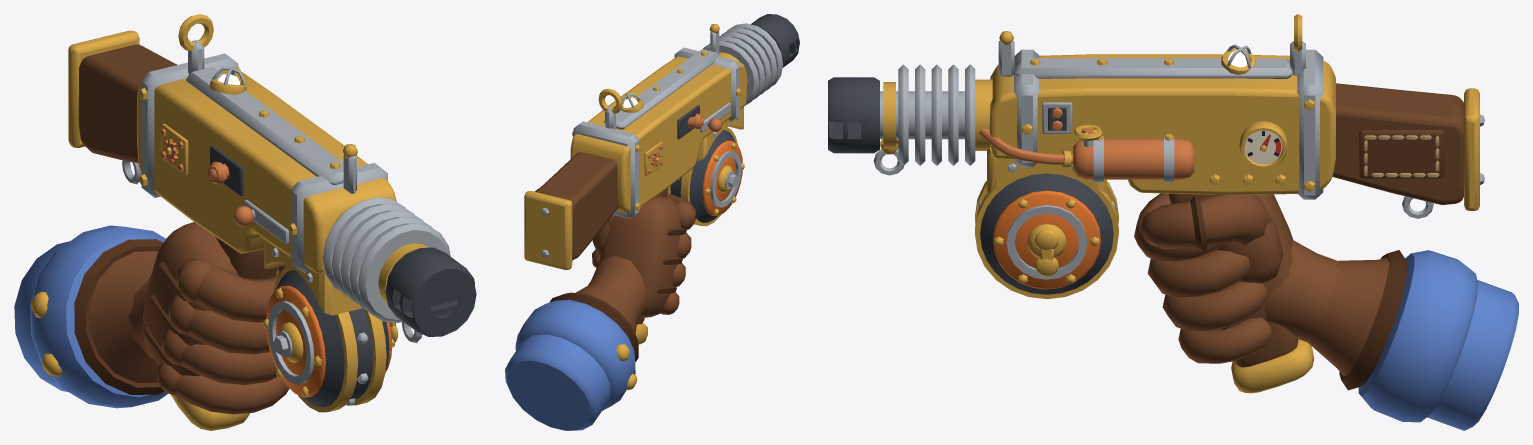
The model's file is vm_rivet_repeater.glb.
3 renders of one model, left to right at view 1: azimuth 30°, elevation 25°; view 2: azimuth 150°, elevation 25°; view 3: azimuth 270°, elevation 25°, orthographic. The views are drawn at different scales.
Visible parts, largest first — view 1: RivetRepeater, Glove, Drum; view 2: RivetRepeater, Glove, Drum; view 3: RivetRepeater, Glove, Drum.
Part boxes in pixels (<box>): RivetRepeater: <box>68,14,476,430</box>; Glove: <box>14,222,289,414</box>; Drum: <box>263,266,398,412</box>; RivetRepeater: <box>524,14,799,344</box>; Glove: <box>505,193,695,430</box>; Drum: <box>667,127,744,226</box>; RivetRepeater: <box>828,14,1484,393</box>; Glove: <box>1134,193,1518,430</box>; Drum: <box>975,171,1118,299</box>.
Bounding box in the file's own units: 0.1689 × 0.3953 × 0.5997.
